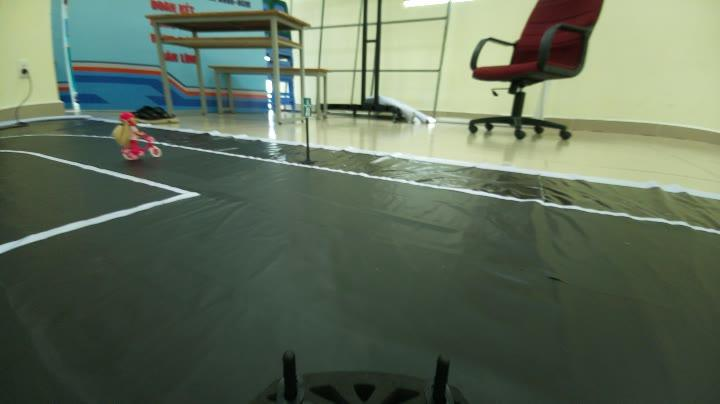pedestrian: (106, 108, 171, 158)
